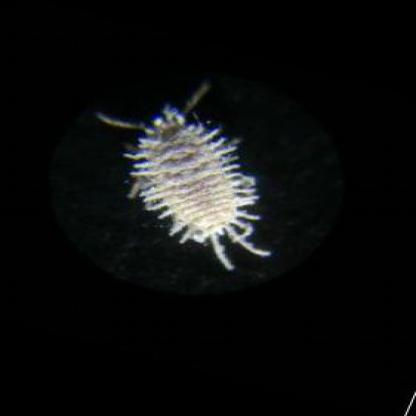mealy bug: (137, 110, 266, 265)
